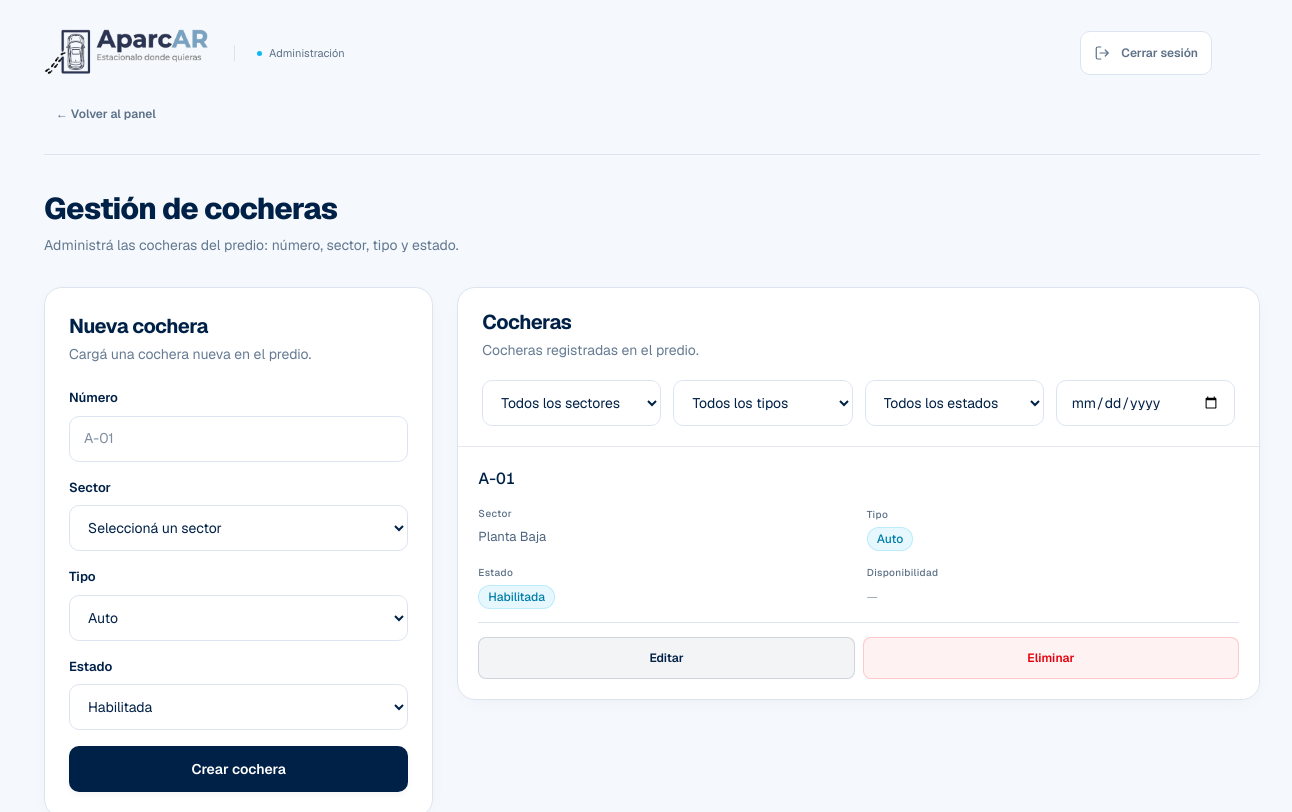
Test case: CocherasManagement › al elegir una fecha, pide al backend con ese parametro y muestra Libre/Ocupada
Check: the text "A-01" is shown, box x1=478 y1=467 x2=1239 y2=491
Type "2026-06-15" into the date field named "Filtrar por fecha" at (1145, 403), box x1=1056 y1=380 x2=1235 y2=426
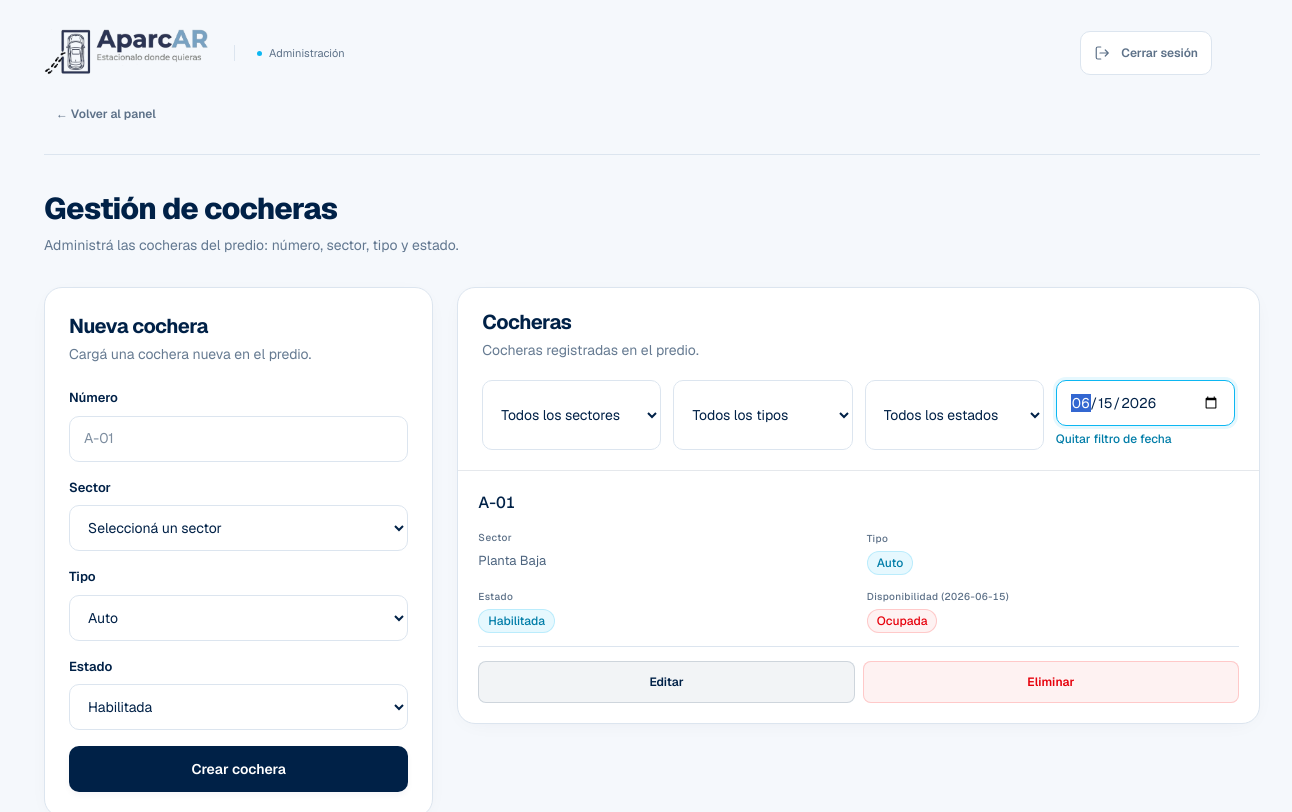
Check: the text "Ocupada" is shown, box x1=867 y1=608 x2=938 y2=632
